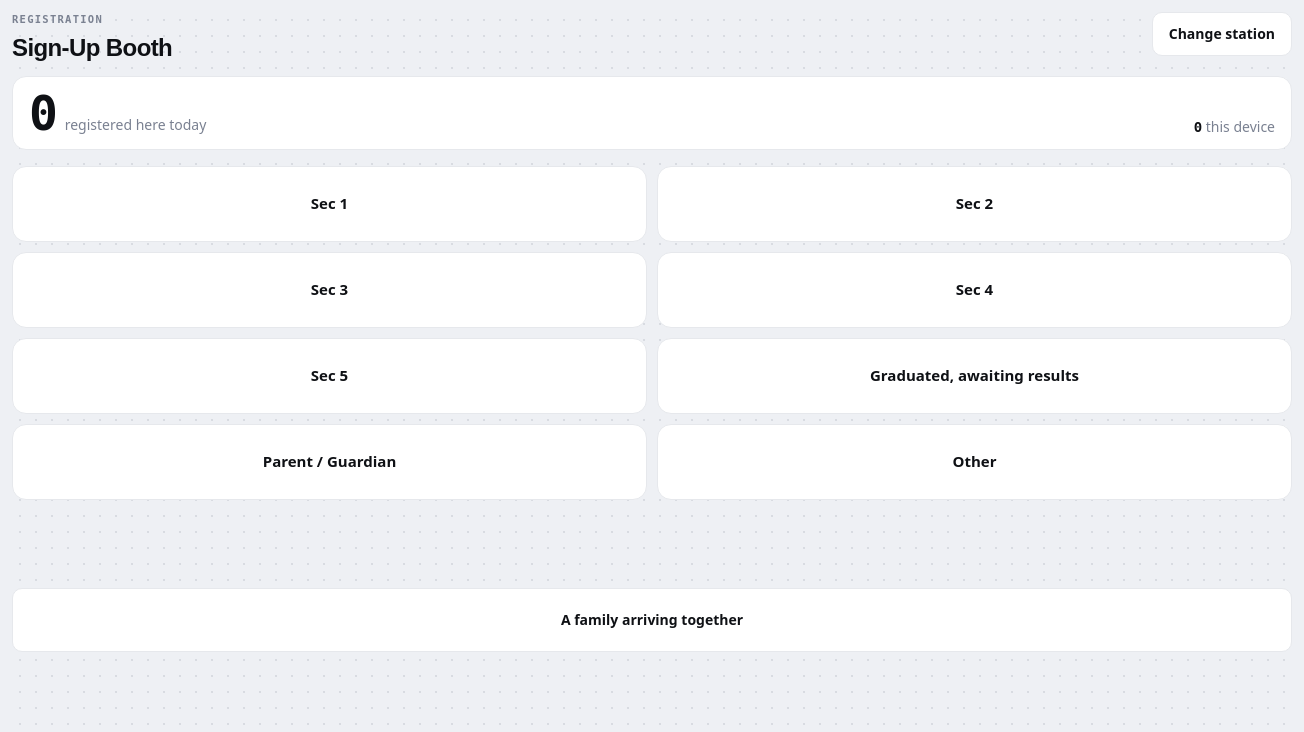
Registration screen › FR-REG-1: one tap saves one anonymous visitor and updates both totals
Expected: the heading "Sign-Up Booth" is shown, [12,32,172,64]
Expected: the text with test id "station-total" reads "0", [29,85,57,141]
Click the button "Sec 4": [974, 290] box [657,252,1292,328]
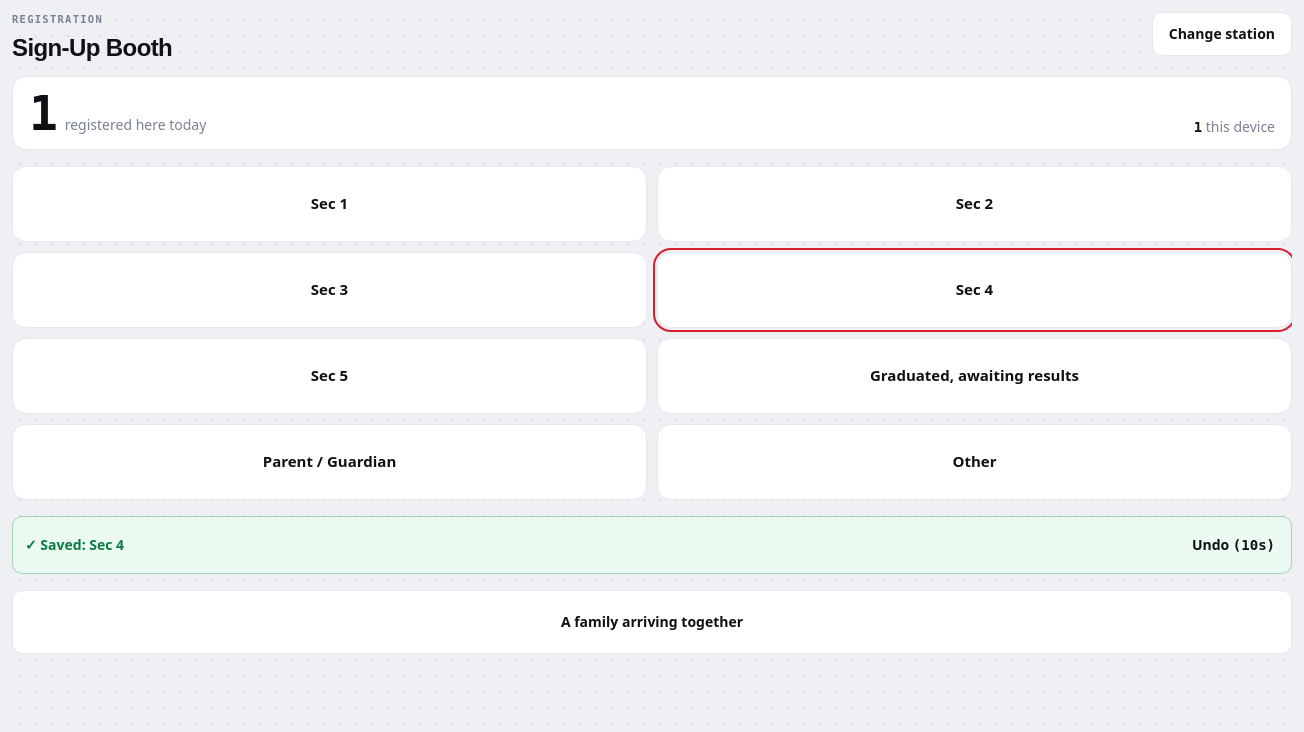
Expected: the text "✓ Saved: Sec 4" is shown, [25,535,124,555]
Expected: the text with test id "station-total" reads "1", [29,85,57,141]
Expected: the text with test id "device-total" reads "1", [1194,119,1202,135]
